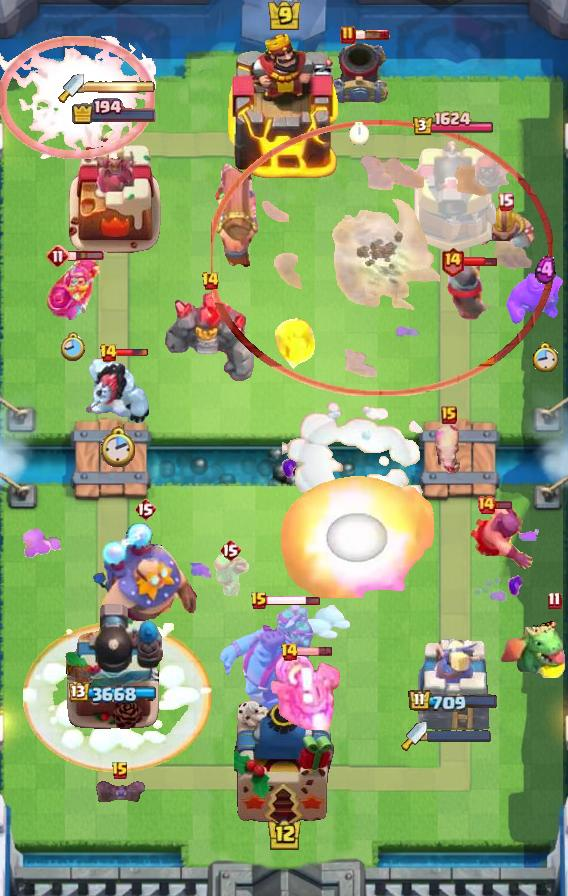bar: (64, 124, 164, 256), (416, 637, 490, 731)
barbarian-barrel: (91, 780, 149, 802)
barbarian-evolution: (0, 36, 156, 160)
battle-healer: (212, 155, 260, 269)
cannoneer-tower: (162, 288, 258, 384)
electro-spirit: (536, 255, 557, 285)
electro-wizard: (500, 608, 568, 678)
elixir: (101, 427, 137, 469), (533, 342, 560, 372), (62, 332, 87, 362), (349, 123, 369, 146)
emote: (267, 594, 322, 607), (462, 256, 498, 269), (67, 250, 104, 262), (354, 29, 390, 41), (296, 647, 333, 658), (115, 348, 149, 358), (494, 500, 514, 510)
firecracker: (435, 259, 497, 325)
firecracker-evolution: (46, 259, 100, 322)
giant: (432, 420, 466, 476)
giant-snowball: (208, 551, 252, 599)
goblin-giant: (474, 205, 536, 253)
king-tower: (226, 33, 342, 181), (234, 700, 334, 826)
king-tower-bar: (84, 80, 156, 94), (427, 730, 491, 742)
lava-hound: (217, 602, 321, 724)
little-prince: (91, 521, 199, 647)
monk: (469, 505, 535, 571)
musketeer: (328, 39, 390, 107)
night-witch: (263, 654, 345, 730)
phoenix-big: (22, 623, 213, 773)
rage: (85, 356, 153, 426)
royal-ghost: (211, 120, 553, 396)
selected: (70, 98, 157, 126), (409, 689, 500, 714), (413, 111, 496, 137), (69, 683, 159, 706)
text: (440, 247, 465, 278), (46, 244, 70, 268), (134, 497, 156, 521), (219, 538, 241, 562), (476, 495, 496, 515), (200, 271, 219, 291), (99, 343, 118, 363), (280, 642, 299, 662), (250, 591, 268, 611), (111, 761, 129, 781), (497, 192, 515, 211), (340, 25, 356, 45), (441, 406, 457, 424), (547, 591, 561, 609)
tornado: (504, 272, 568, 326)
tower-bar: (392, 138, 514, 256), (64, 601, 164, 731)
valkyrie: (280, 476, 436, 598), (272, 315, 320, 377)
wall-breaker: (282, 400, 434, 522)
